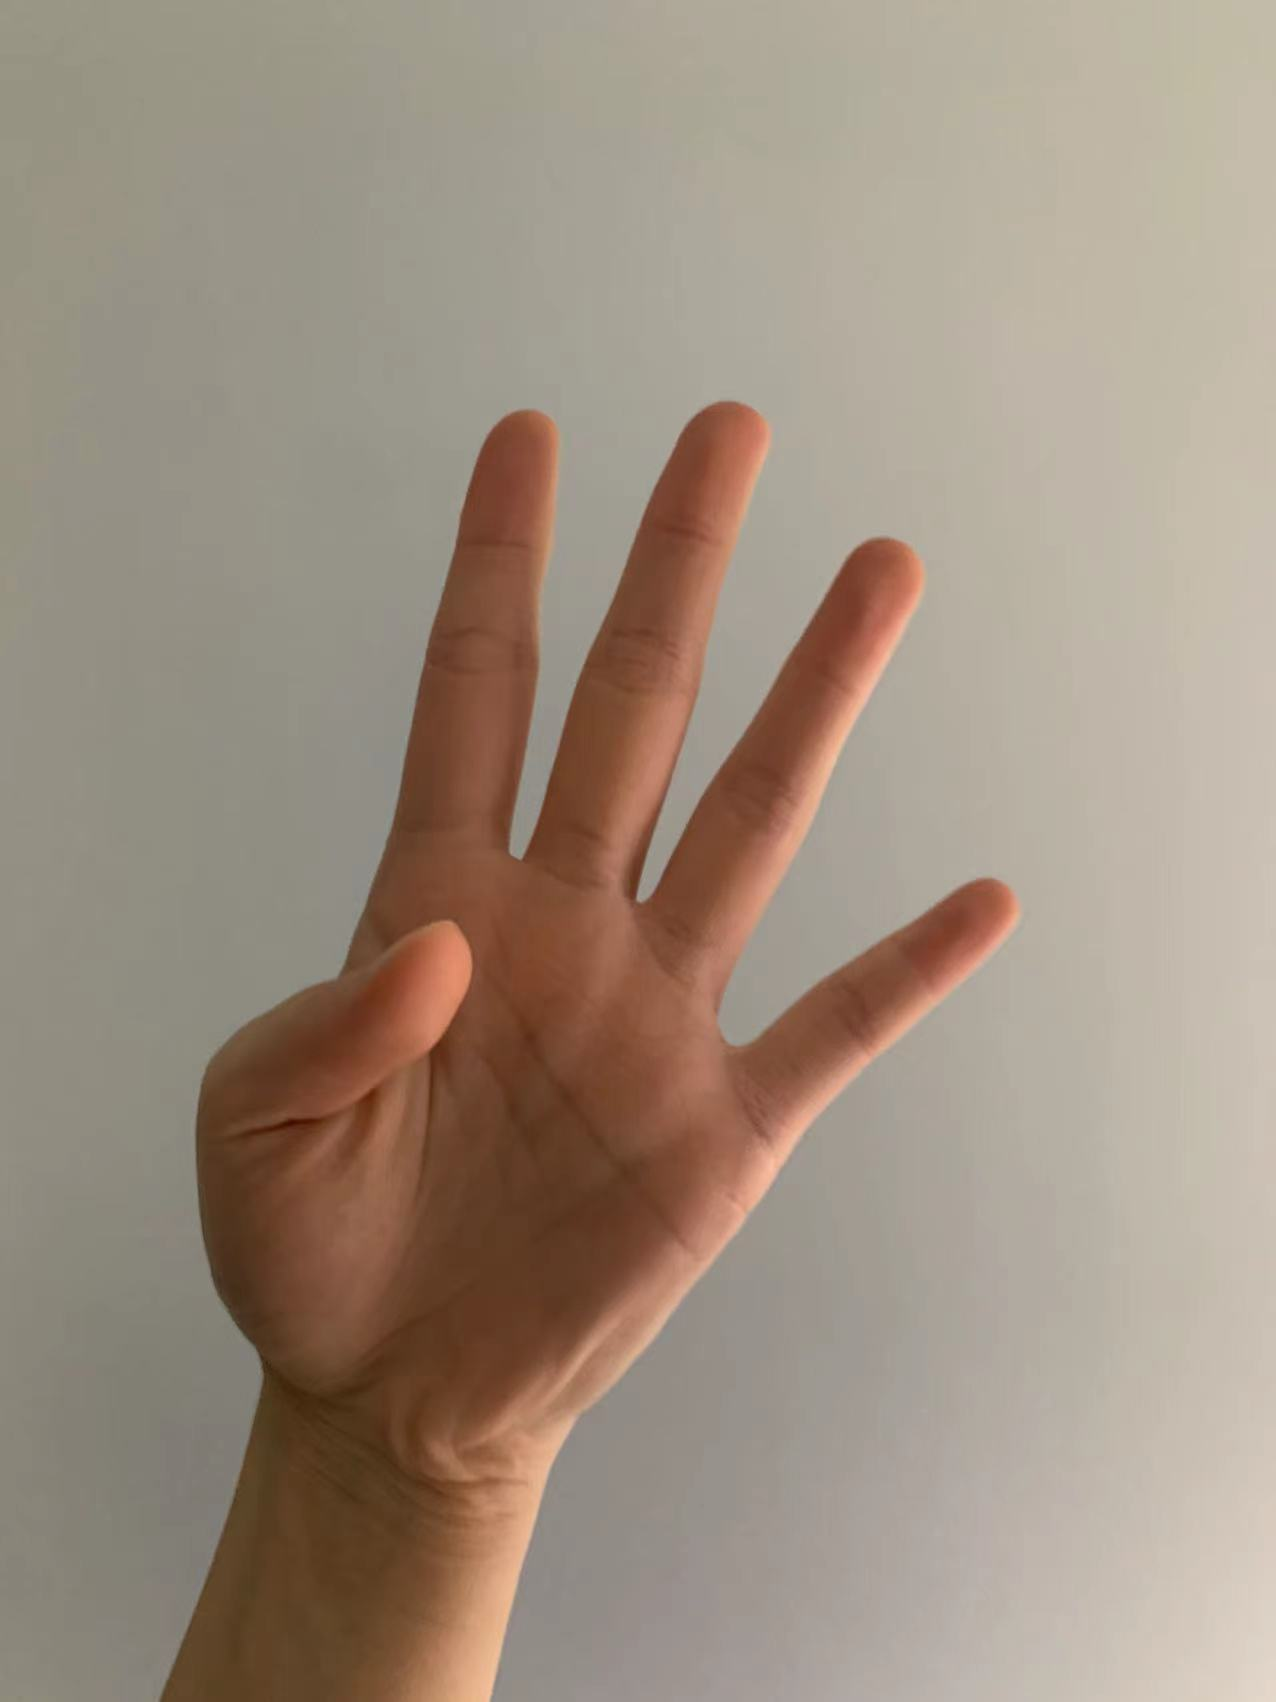right: (172, 387, 1016, 1442)
